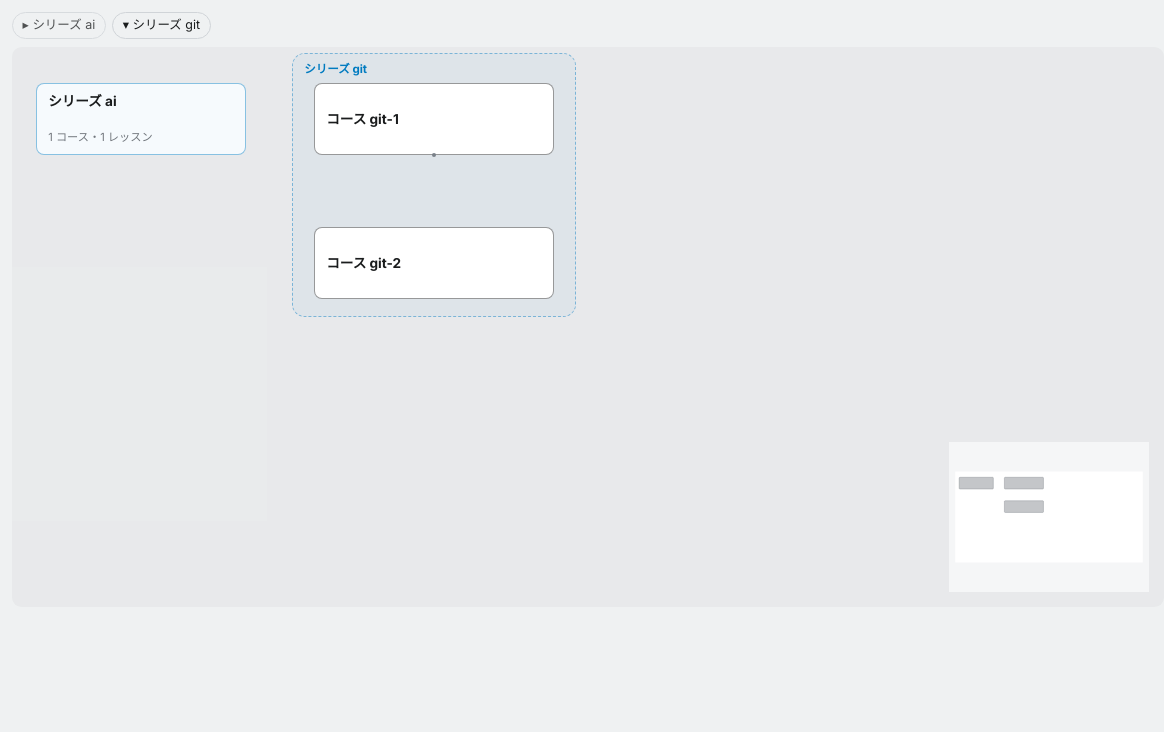
Test: モーダルの全体曼陀羅はダブルクリックでシリーズを開閉できる › 枠のダブルクリックで畳まれ、記憶される
Double-click the text "シリーズ git".
double_click(336, 70)  # box [304,60,367,79]
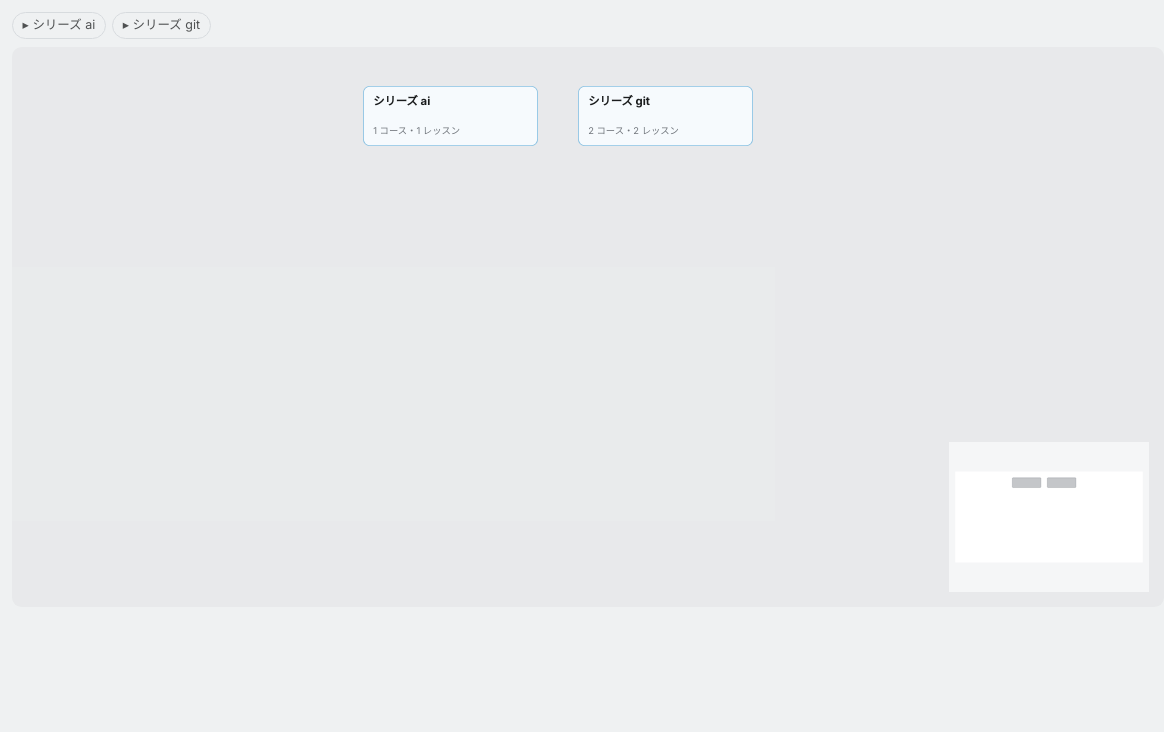
Result: the text "2 コース・2 レッスン" is shown at [588,125,679,137]
Result: the text "コース git-1" is gone
